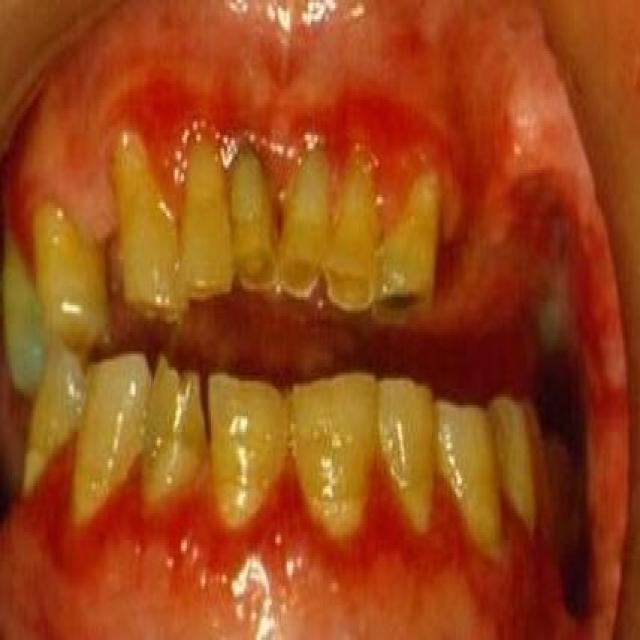caries: (322, 245, 370, 311), (155, 345, 203, 409), (372, 272, 428, 324), (280, 242, 321, 302), (237, 233, 277, 294)
